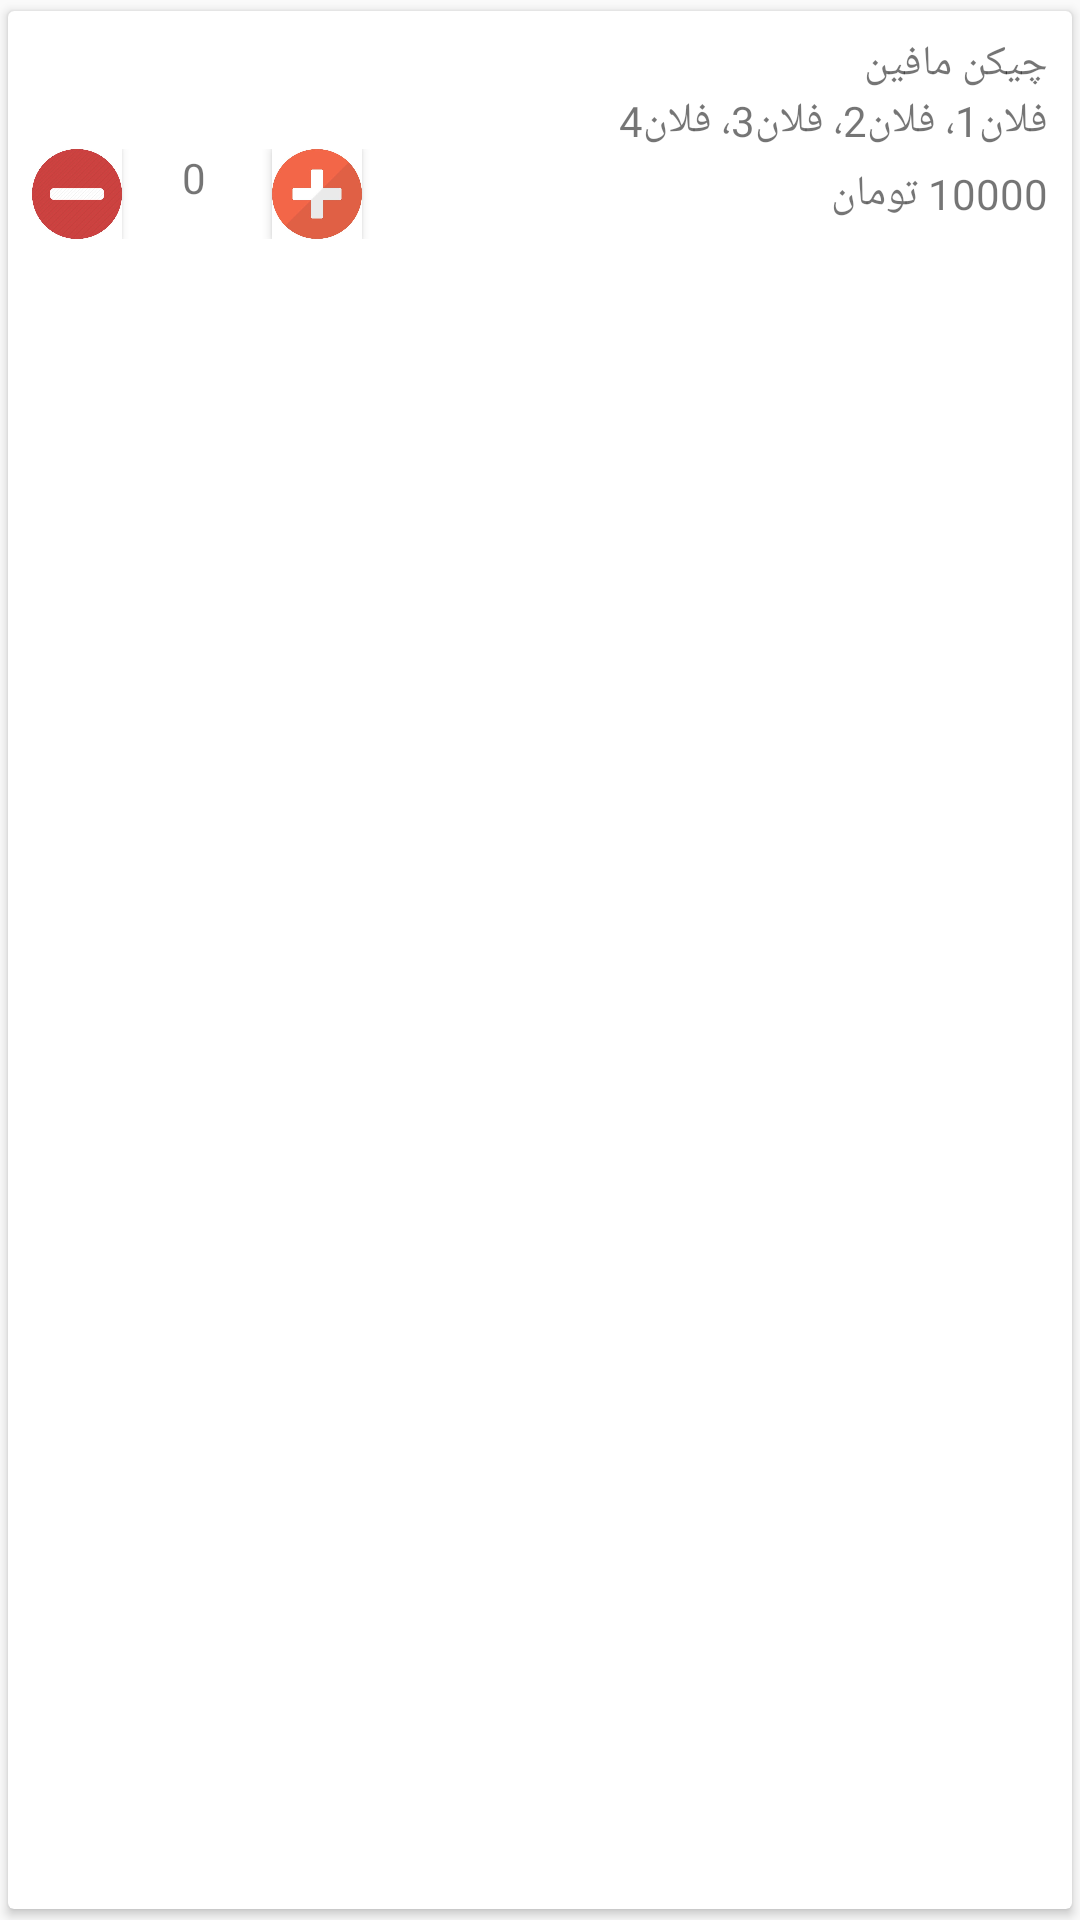

Named icons in this screenshot (1080px×1920px) and their centers, point (x, y):
minus: point (77, 194)
plus: point (317, 194)
